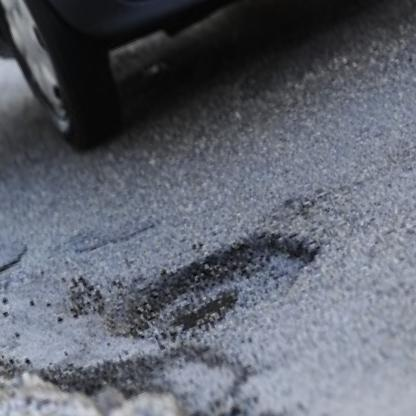pothole: (115, 213, 323, 351)
